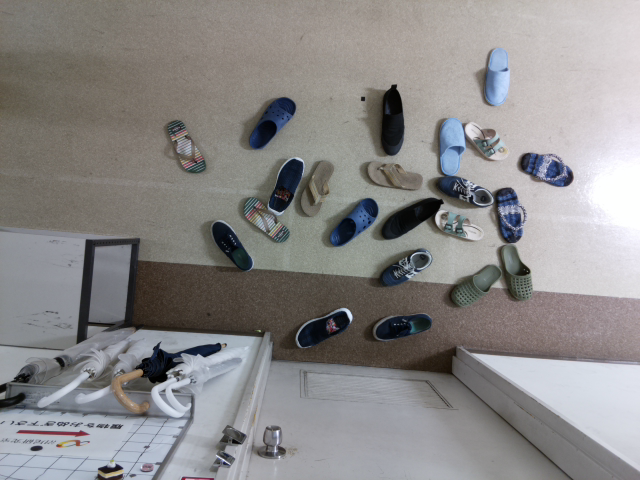Copy of Copy of Copy of Copy of Copy of Copy of Copy of Copy of Copy of Copy of: (320, 192, 385, 253), (493, 238, 543, 311), (374, 194, 447, 242), (514, 141, 581, 190), (371, 78, 409, 162), (486, 182, 530, 248), (431, 110, 470, 181), (431, 168, 497, 209), (459, 114, 508, 165), (429, 205, 489, 246), (478, 40, 513, 110), (363, 157, 427, 195)
Copy of Copy of Copy of Copy of Copy of Copy of Copy of Copy of Copy of shoe: (436, 257, 505, 313)
Copy of Copy of Copy of Copy of Copy of Copy of Copy of Copy of shoe: (373, 246, 442, 295)
Copy of Copy of Copy of Copy of Copy of Copy of Copy of shoe: (366, 303, 437, 345)
Copy of Copy of Copy of Copy of Copy of Copy of shoe: (290, 300, 361, 356)
Copy of Copy of Copy of Copy of Copy of shoe: (297, 153, 340, 221)
Copy of Copy of Copy of Copy of Copy of umbrella: (1, 320, 139, 411)
Copy of Copy of Copy of Copy of shoe: (262, 150, 305, 219)
Copy of Copy of Copy of Copy of umbrella: (29, 323, 154, 412)
Copy of Copy of Copy of shoe: (237, 190, 291, 248)
Copy of Copy of Copy of umbrella: (75, 326, 168, 411)
Copy of Copy of shoe: (201, 213, 260, 280)
Copy of Copy of umbrella: (101, 334, 231, 416)
Copy of shoe: (238, 91, 300, 154)
Copy of umbrella: (164, 344, 252, 419)
shoe: (160, 111, 213, 178)
umbrella: (142, 335, 256, 420)
